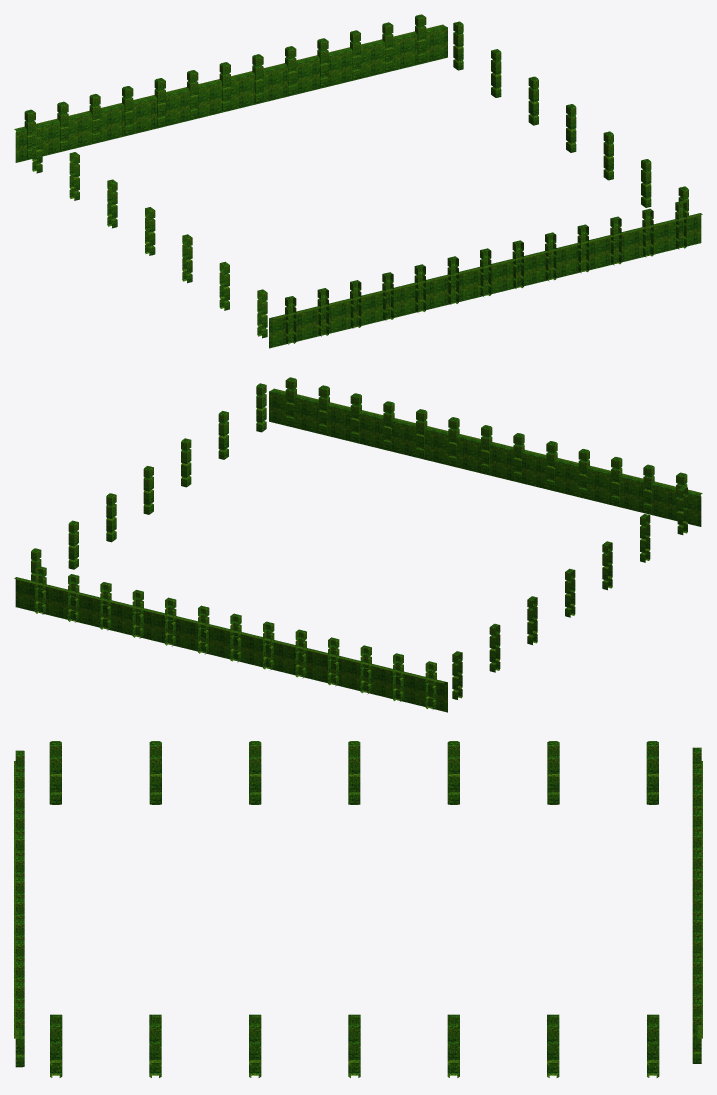
Rendered from hedge.DAE.
The picture shows the model from 3 angles, top to bottom: view 1: azimuth 30°, elevation 25°; view 2: azimuth 150°, elevation 25°; view 3: azimuth 270°, elevation 25°; orthographic projection. The views are drawn at different scales.
Visible parts, largest first — view 1: hedgeShort_1, hedgeShort_2; view 2: hedgeShort_2, hedgeShort_1, hedgeTall024; view 3: hedgeTall022, hedgeTall024, hedgeTall020, hedgeTall021, hedgeTall023, hedgeTall025, hedgeTall026, hedgeTall013, hedgeTall017, hedgeTall019, hedgeTall014, hedgeTall018 (+6 smaller).
Part boxes in pixels (bbox=[...]): hedgeShort_1: bbox=[269, 213, 702, 348]; hedgeShort_2: bbox=[14, 24, 447, 162]; hedgeShort_2: bbox=[14, 577, 447, 712]; hedgeShort_1: bbox=[269, 388, 702, 526]; hedgeTall024: bbox=[489, 623, 500, 672]; hedgeTall022: bbox=[348, 741, 360, 804]; hedgeTall024: bbox=[547, 741, 559, 804]; hedgeTall020: bbox=[149, 741, 161, 804]; hedgeTall021: bbox=[249, 741, 261, 804]; hedgeTall023: bbox=[447, 741, 459, 804]; hedgeTall025: bbox=[49, 741, 61, 804]; hedgeTall026: bbox=[646, 741, 658, 804]; hedgeTall013: bbox=[647, 1014, 659, 1077]; hedgeTall017: bbox=[249, 1014, 261, 1077]; hedgeTall019: bbox=[50, 1014, 62, 1077]; hedgeTall014: bbox=[547, 1014, 559, 1077]; hedgeTall018: bbox=[149, 1014, 161, 1077].
Bounding box in the file's own units: 21.68 × 22.58 × 2.25.
Materials: 1 (1 with a texture image).
